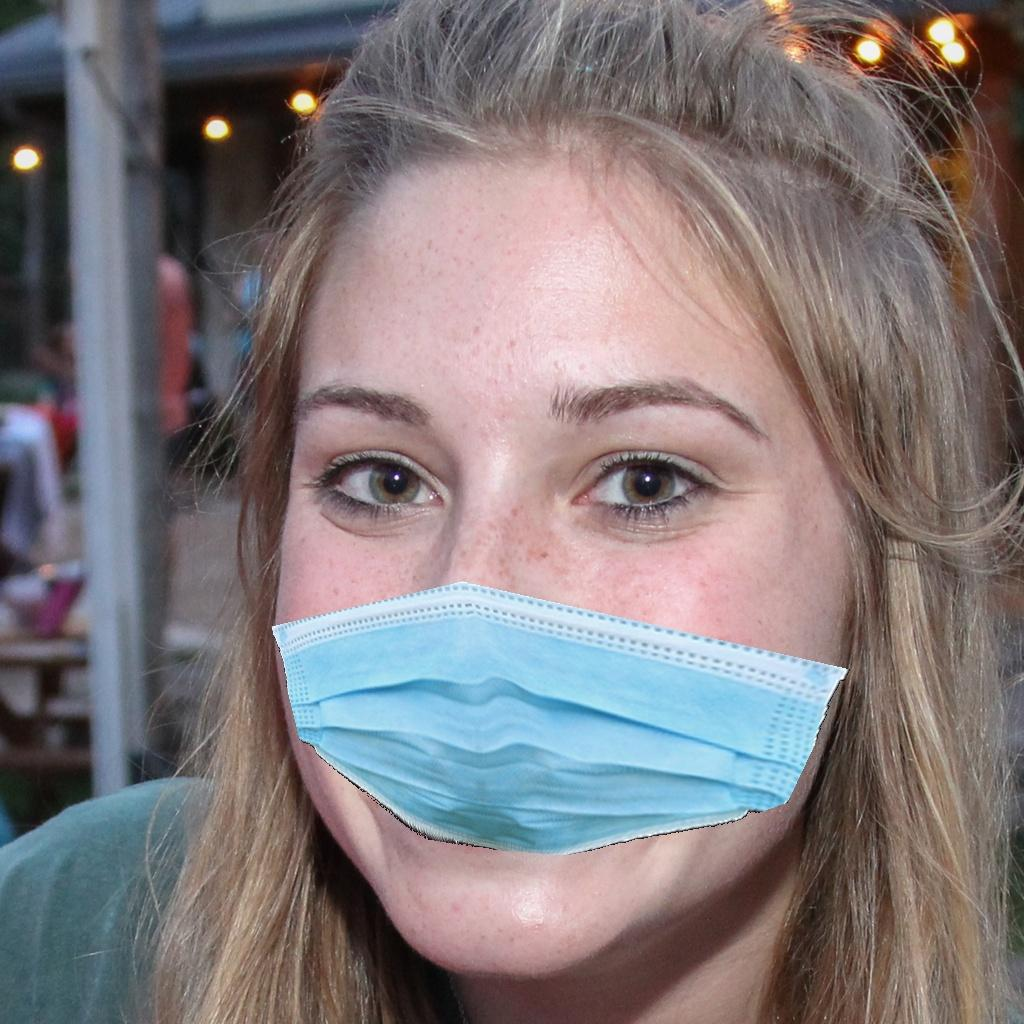Com Máscara: (302, 290, 820, 944)
